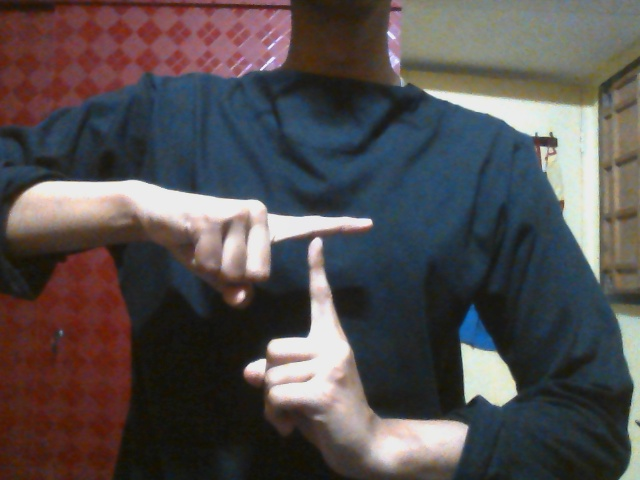T: (175, 194, 414, 437)
